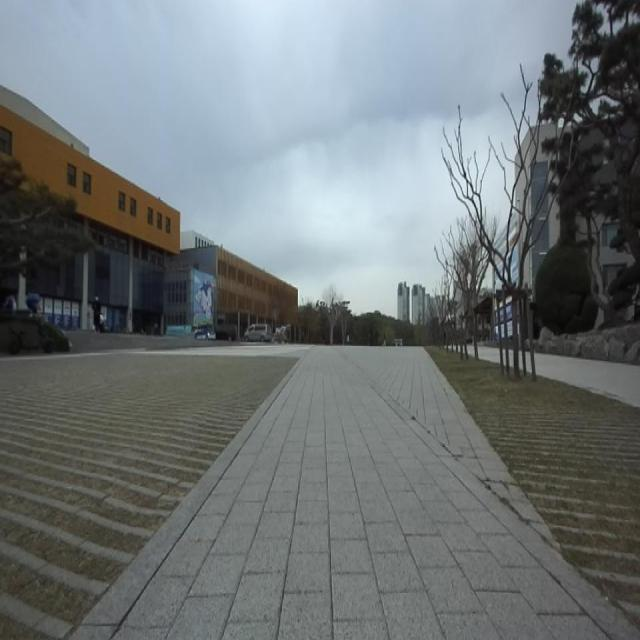sidewalk: (76, 349, 638, 639)
